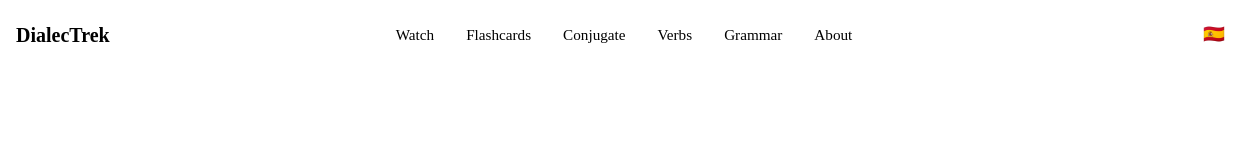
Test: closes the language dropdown after picking a language
This screenshot has width=1250, height=160.
Click the button named "Switch language" at [1214, 35], box [1196, 17, 1232, 53]
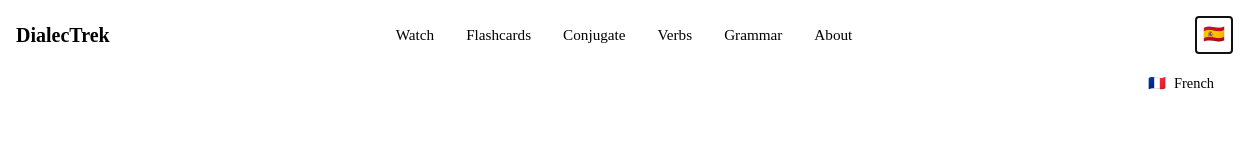
Click the link "🇫🇷 French" at [1181, 83], box [1148, 75, 1214, 91]
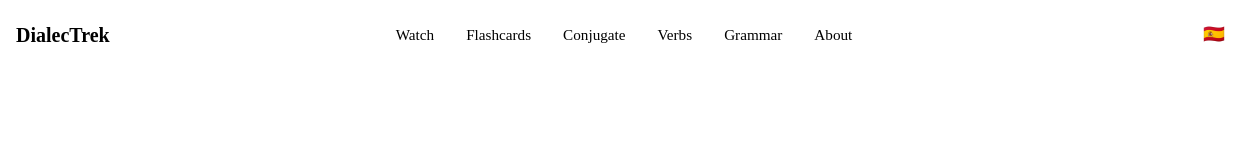
expect the link "French" is gone: met
